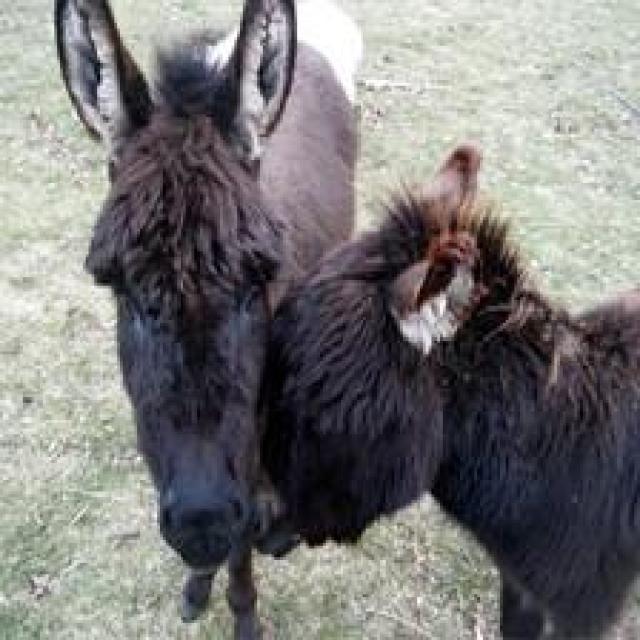Donkey: (51, 0, 363, 637), (252, 140, 637, 637)
